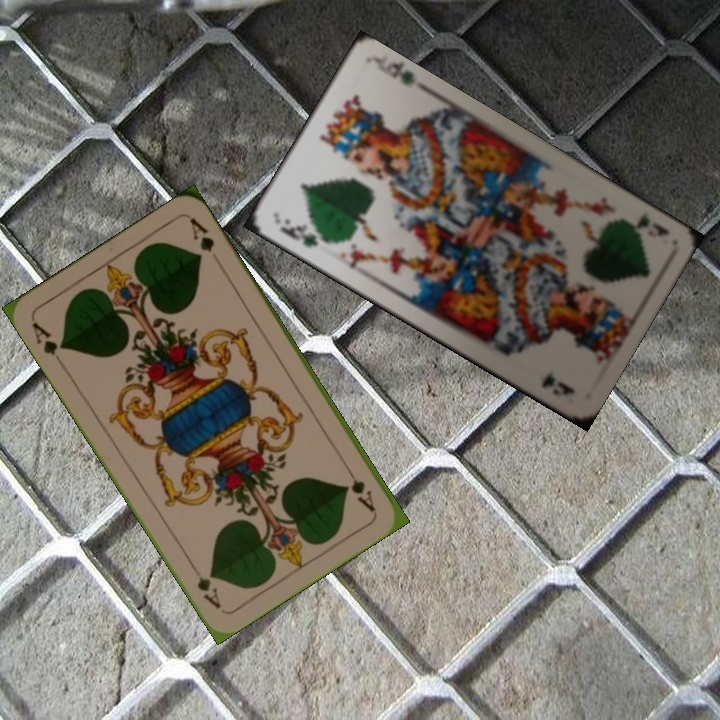GA: (28, 317, 68, 369), (340, 461, 378, 515)
GK: (275, 214, 332, 251), (614, 210, 673, 239)
